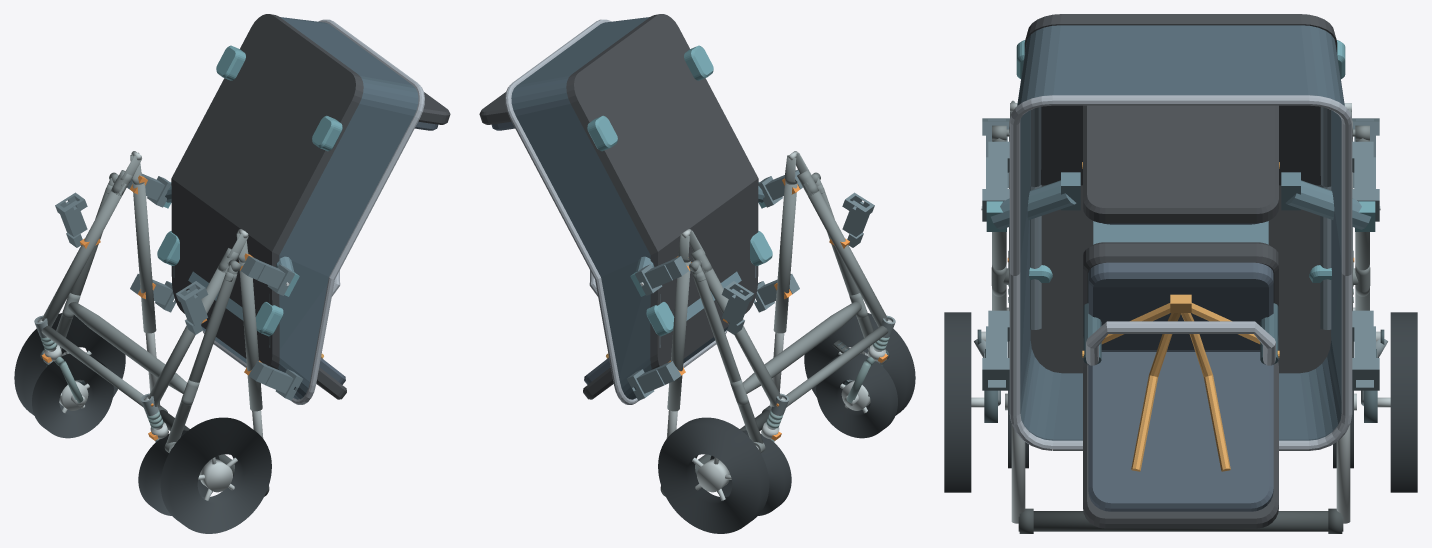
Rendered from S11_w650_state3_wheel_M.glb.
The picture shows the model from 3 angles, left to right: view 1: azimuth 30°, elevation 25°; view 2: azimuth 150°, elevation 25°; view 3: azimuth 270°, elevation 25°; orthographic projection. The views are drawn at different scales.
Parts seen in each view (by area): view 1: S11_Cabin, RL_tire.008, FR_tire.008, RR_tire.008, V46_rearbar.009, main_lower_1.009, main_upper_1.009, V46_rear_leg_-1.009, main_upper_-1.009, FL_tire.008, main_lower_-1.009, front_fixed_round_tube.008 (+8 smaller); view 2: S11_Cabin, RR_tire.008, FL_tire.008, RL_tire.008, V46_rearbar.009, main_lower_-1.009, main_upper_-1.009, V46_rear_leg_1.009, main_upper_1.009, FR_tire.008, main_lower_1.009, front_fixed_round_tube.008 (+8 smaller); view 3: S11_Cabin, RL_tire.008, RR_tire.008, S11_Cabin_Mount_M, round_handle.008, Universal_Cabin_Receiver_H_1, Universal_Cabin_Receiver_H_-1, Universal_Cabin_Receiver_M_1, Universal_Cabin_Receiver_M_-1, handle_slider_1.008, handle_slider_-1.008, V46_rear_leg_1.009 (+1 smaller).
Part boxes in pixels (<box>): S11_Cabin: <box>157,14,450,404</box>; RL_tire.008: <box>160,417,271,533</box>; FR_tire.008: <box>32,353,113,438</box>; RR_tire.008: <box>14,313,125,415</box>; V46_rearbar.009: <box>68,302,186,393</box>; main_lower_1.009: <box>41,183,126,327</box>; main_upper_1.009: <box>132,182,156,333</box>; V46_rear_leg_-1.009: <box>166,271,237,443</box>; main_upper_-1.009: <box>239,261,262,411</box>; FL_tire.008: <box>138,430,219,515</box>; main_lower_-1.009: <box>148,267,228,406</box>; front_fixed_round_tube.008: <box>41,325,143,407</box>; S11_Cabin: <box>479,14,772,404</box>; RR_tire.008: <box>658,417,769,533</box>; FL_tire.008: <box>816,353,897,438</box>; RL_tire.008: <box>804,313,915,415</box>; V46_rearbar.009: <box>743,302,861,393</box>; main_lower_-1.009: <box>803,183,888,327</box>; main_upper_-1.009: <box>773,182,797,333</box>; V46_rear_leg_1.009: <box>692,271,763,443</box>; main_upper_1.009: <box>667,261,690,411</box>; FR_tire.008: <box>710,430,791,515</box>; main_lower_1.009: <box>701,267,781,406</box>; front_fixed_round_tube.008: <box>786,325,888,407</box>; S11_Cabin: <box>1009,14,1352,528</box>; RL_tire.008: <box>944,312,971,492</box>; RR_tire.008: <box>1390,312,1417,492</box>; S11_Cabin_Mount_M: <box>981,172,1380,231</box>; round_handle.008: <box>1018,511,1343,531</box>; Universal_Cabin_Receiver_H_1: <box>1352,310,1379,390</box>; Universal_Cabin_Receiver_H_-1: <box>982,310,1009,390</box>; Universal_Cabin_Receiver_M_1: <box>1352,141,1379,221</box>; Universal_Cabin_Receiver_M_-1: <box>982,141,1009,221</box>; handle_slider_1.008: <box>1336,424,1350,523</box>; handle_slider_-1.008: <box>1011,424,1025,523</box>; V46_rear_leg_1.009: <box>1355,140,1369,310</box>.
Size of the model in its own units: 0.982 by 1.09 by 0.7871.
